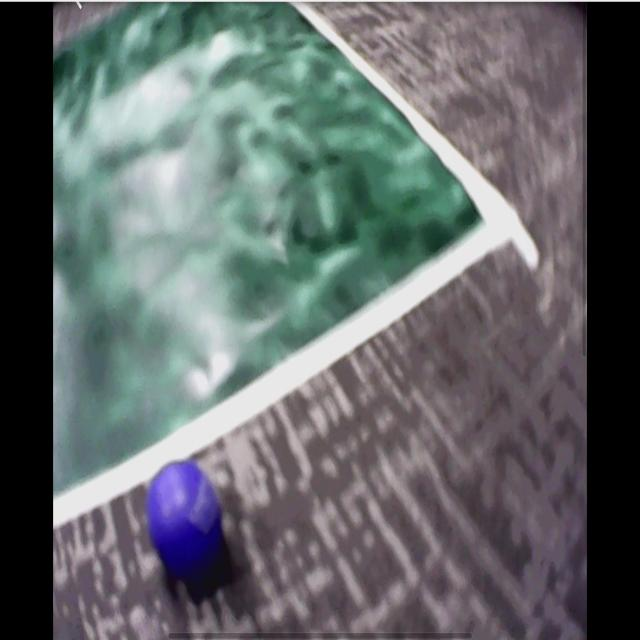ball: (146, 460, 223, 575)
